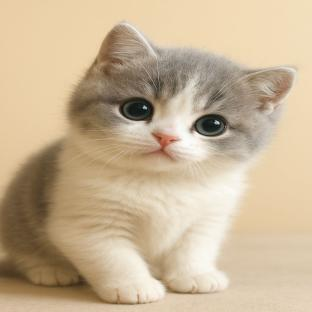Animal: (0, 22, 297, 304)
